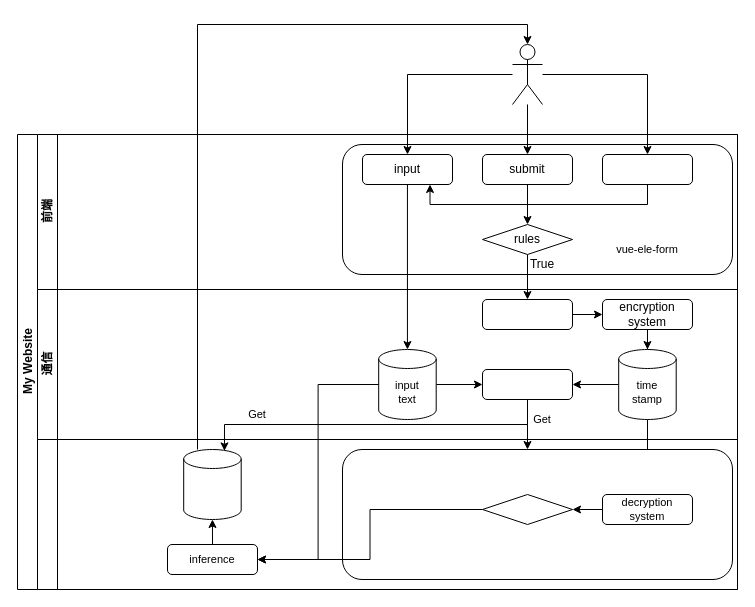
Some shapes in this 755 by 607 pixel diagram are drawn without their labels. The shapes that lost their labels are listed below. From the top down, each one's box as (x1, y1, x2, y2) in pixels, then its label:
(602, 154, 692, 184): remove non-Chinese
(482, 298, 572, 330): get timestamp
(482, 368, 572, 400): axios
(183, 448, 241, 520): midi file
(36, 438, 738, 590): 后端
(482, 494, 572, 524): verify
